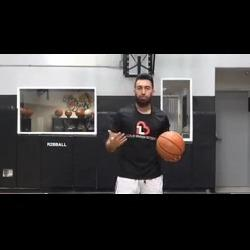BasketBall: (154, 129, 186, 163)
